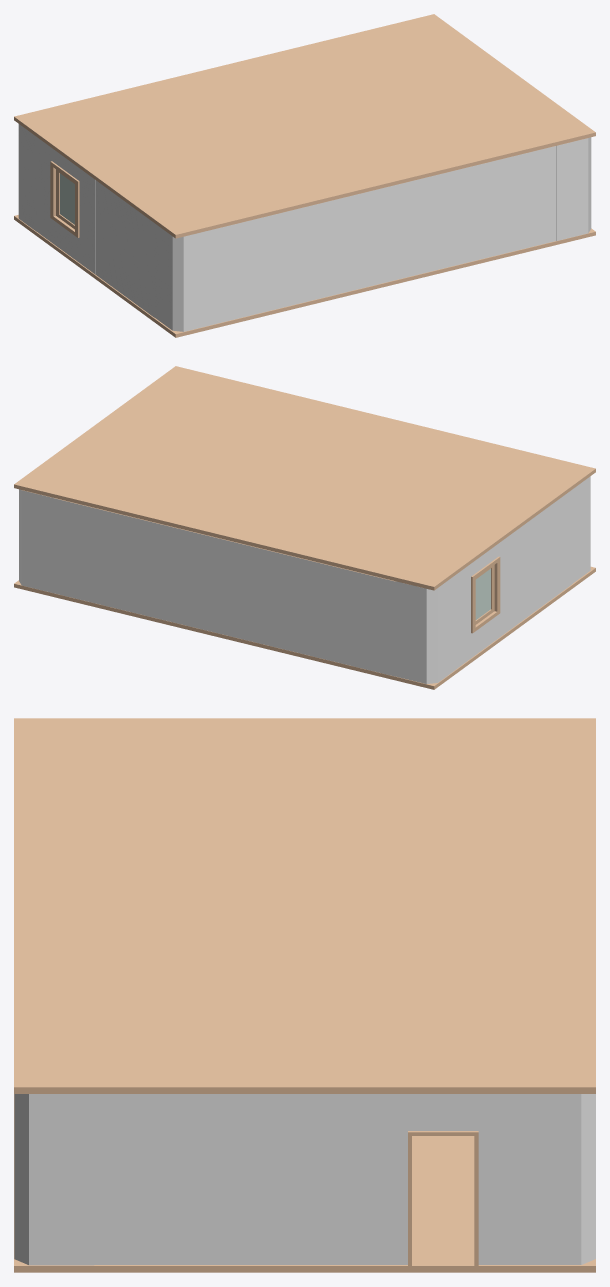
Rendered from room-with-roof.glb.
3 renders of one model, top to bottom at view 1: azimuth 30°, elevation 25°; view 2: azimuth 150°, elevation 25°; view 3: azimuth 270°, elevation 25°, orthographic. The views are drawn at different scales.
Visible parts, largest first — view 1: floorHalf.001, Walls, floorHalf; view 2: floorHalf.001, Walls, floorHalf; view 3: floorHalf.001, Walls, floorHalf.
Boxes of the visible parts, box(x1,y1,x2,y2) form: floorHalf.001: box(14, 14, 595, 238); Walls: box(18, 124, 591, 331); floorHalf: box(14, 215, 595, 337); floorHalf.001: box(14, 366, 595, 590); Walls: box(19, 476, 590, 683); floorHalf: box(14, 566, 595, 689); floorHalf.001: box(14, 718, 595, 1093); Walls: box(14, 1094, 595, 1266); floorHalf: box(14, 1094, 595, 1272).
Size of the model in its own units: 6.02 by 1.4 by 4.
